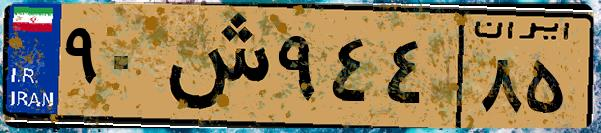0: (110, 28, 158, 98)
4: (385, 28, 445, 110), (330, 28, 385, 110)
5: (525, 38, 570, 115)
8: (475, 38, 525, 113)
9: (270, 28, 330, 110), (57, 26, 110, 100)
ش: (158, 12, 270, 120)
